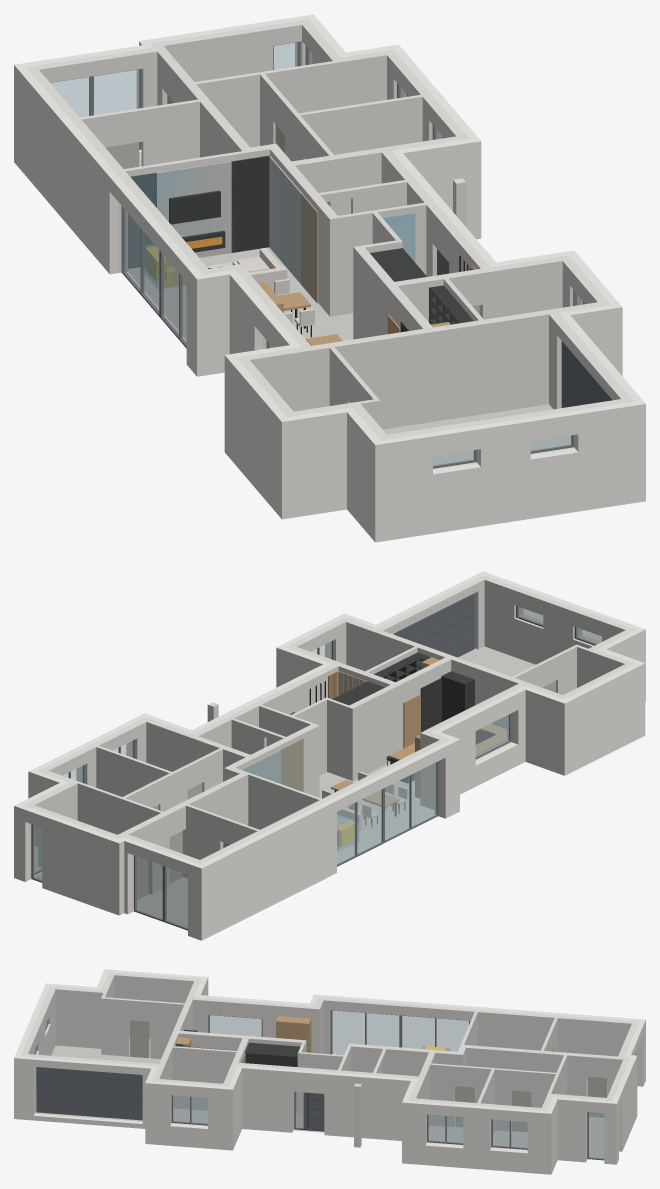
Rendered from dom_wnetrze.glb.
3 views of the same model, one above another, from view 1: azimuth 30°, elevation 25°; view 2: azimuth 150°, elevation 25°; view 3: azimuth 270°, elevation 25° (orthographic). The views are drawn at different scales.
Parts seen in each view (by area): view 1: SCIANY_rdzenie_02, IZ_12_z_2738_3100, SCIANY_rdzenie_11, IZ_04_z_1000_1888_01, SCIANY_rdzenie_09, IZ_02_z_238_900_01, SCIANY_rdzenie_06, SCIANY_rdzenie_10, SCIANY_rdzenie_07, SCIANY_rdzenie_01, BLK_SAL_ART_WALL, IZ_01_z_0_238_01 (+39 smaller); view 2: SCIANY_rdzenie_02, IZ_12_z_2738_3100, SCIANY_rdzenie_11, SCIANY_rdzenie_06, SCIANY_rdzenie_09, SCIANY_rdzenie_10, IZ_02_z_238_900_01, IZ_04_z_1000_1888_03, IZ_04_z_1000_1888_01, SCIANY_rdzenie_04, DR01_brama_panel, W10_O7_pokoj_10_szklo (+41 smaller); view 3: SCIANY_rdzenie_02, IZ_12_z_2738_3100, SCIANY_rdzenie_06, DR01_brama_panel, SCIANY_rdzenie_11, IZ_02_z_238_900_05, W10_O7_pokoj_10_szklo, SCIANY_rdzenie_09, IZ_02_z_238_900_06, SCIANY_rdzenie_05, W09_O6_pokoj_10_szklo, IZ_01_z_0_238_01 (+53 smaller).
Part boxes in pixels (x1,y1,x2,y2): SCIANY_rdzenie_02: [236, 233, 610, 440]; IZ_12_z_2738_3100: [14, 14, 645, 456]; SCIANY_rdzenie_11: [281, 127, 469, 316]; IZ_04_z_1000_1888_01: [224, 393, 645, 510]; SCIANY_rdzenie_09: [174, 35, 402, 147]; IZ_02_z_238_900_01: [186, 337, 645, 534]; SCIANY_rdzenie_06: [26, 65, 279, 272]; SCIANY_rdzenie_10: [285, 85, 438, 161]; SCIANY_rdzenie_07: [140, 25, 273, 107]; SCIANY_rdzenie_01: [450, 231, 579, 319]; BLK_SAL_ART_WALL: [269, 158, 317, 300]; IZ_01_z_0_238_01: [186, 357, 645, 542]; SCIANY_rdzenie_02: [316, 617, 635, 780]; IZ_12_z_2738_3100: [14, 571, 645, 876]; SCIANY_rdzenie_11: [131, 698, 319, 797]; SCIANY_rdzenie_06: [180, 765, 331, 878]; SCIANY_rdzenie_09: [38, 764, 169, 894]; SCIANY_rdzenie_10: [81, 739, 187, 811]; IZ_02_z_238_900_01: [440, 681, 645, 812]; IZ_04_z_1000_1888_03: [188, 829, 336, 917]; IZ_04_z_1000_1888_01: [513, 614, 645, 752]; SCIANY_rdzenie_04: [473, 575, 518, 656]; DR01_brama_panel: [394, 593, 474, 657]; W10_O7_pokoj_10_szklo: [385, 762, 436, 840]; SCIANY_rdzenie_02: [44, 972, 311, 1122]; IZ_12_z_2738_3100: [14, 969, 645, 1120]; SCIANY_rdzenie_06: [456, 1008, 638, 1107]; DR01_brama_panel: [36, 1067, 142, 1120]; SCIANY_rdzenie_11: [325, 1043, 454, 1142]; IZ_02_z_238_900_05: [324, 1117, 586, 1169]; W10_O7_pokoj_10_szklo: [332, 1010, 399, 1055]; SCIANY_rdzenie_09: [529, 1052, 587, 1159]; IZ_02_z_238_900_06: [142, 1111, 293, 1145]; SCIANY_rdzenie_05: [262, 997, 331, 1054]; W09_O6_pokoj_10_szklo: [402, 1015, 468, 1051]; IZ_01_z_0_238_01: [14, 1113, 293, 1150].
Bounding box in the file's own units: 15.81 × 3.1 × 29.18.
